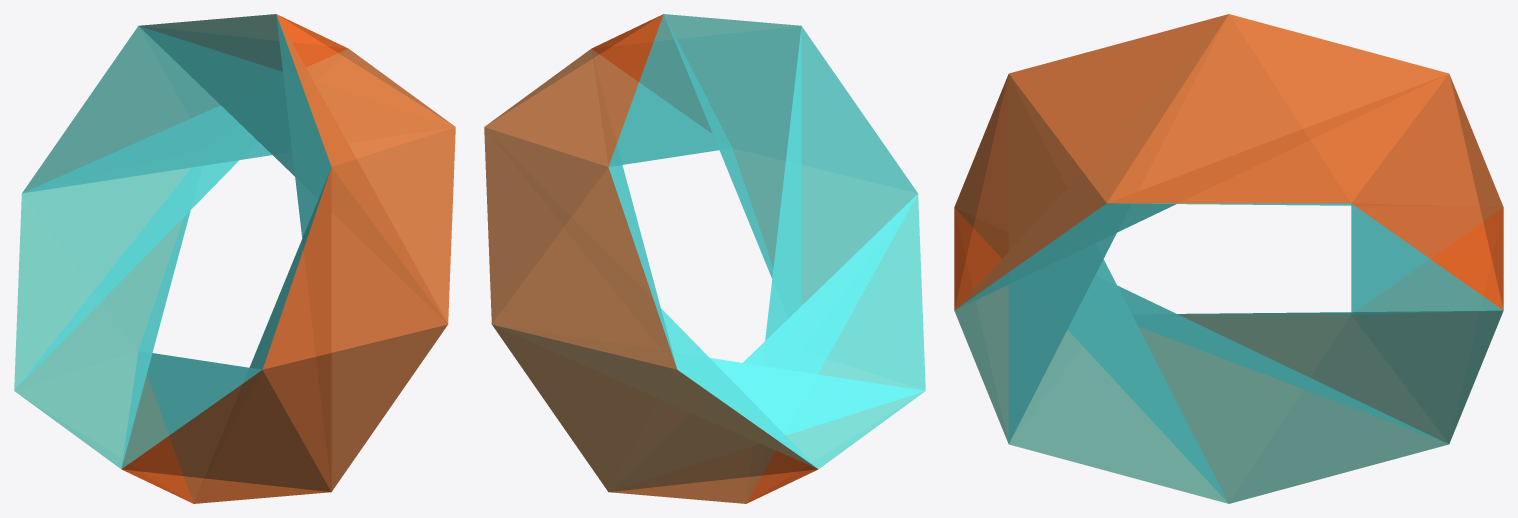
The model's file is AntiHeptagonalIrisToroid.obj.
The picture shows the model from 3 angles, left to right: view 1: azimuth 30°, elevation 25°; view 2: azimuth 150°, elevation 25°; view 3: azimuth 270°, elevation 25°; orthographic projection. The views are drawn at different scales.
Bounding box in the file's own units: 1.8 × 2.42 × 2.25.
